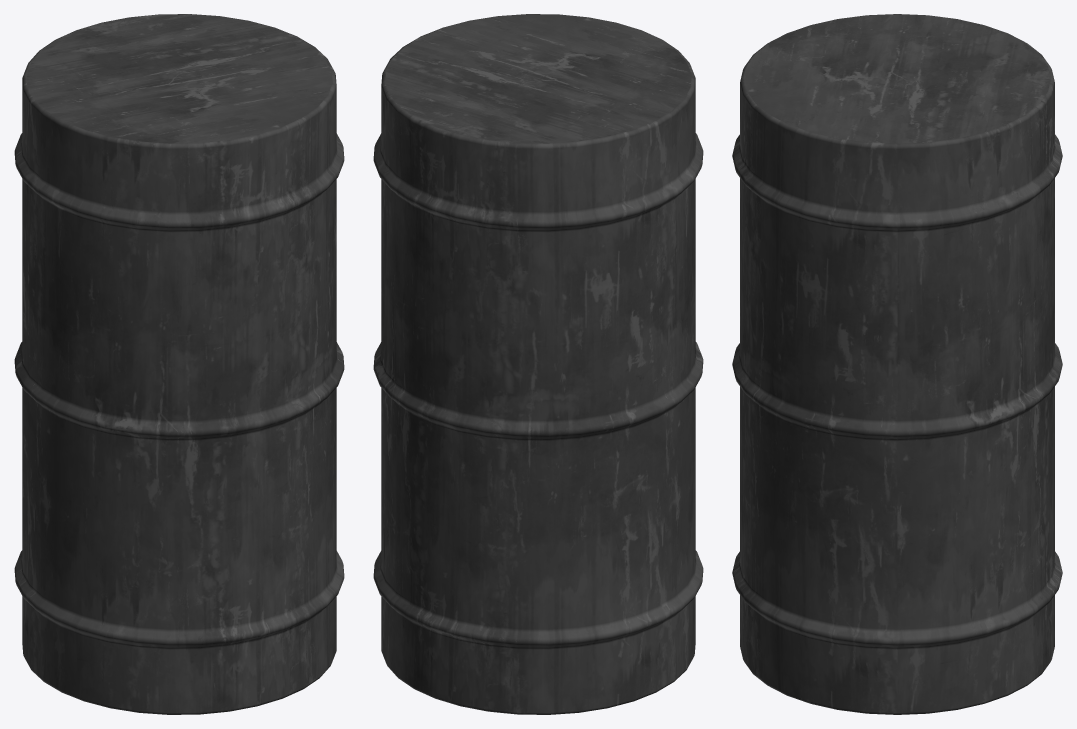
File: barrel_001.fbx
3 views of the same model, side by side, from view 1: azimuth 30°, elevation 25°; view 2: azimuth 150°, elevation 25°; view 3: azimuth 270°, elevation 25° (orthographic).
Visible parts, largest first — view 1: barrel_001; view 2: barrel_001; view 3: barrel_001.
Boxes of the visible parts, left/top/right/bottom form: barrel_001: left=14, top=14, right=344, bottom=714; barrel_001: left=373, top=14, right=703, bottom=714; barrel_001: left=732, top=14, right=1062, bottom=714.
Bounding box in the file's own units: 2518 × 2518 × 4800.
